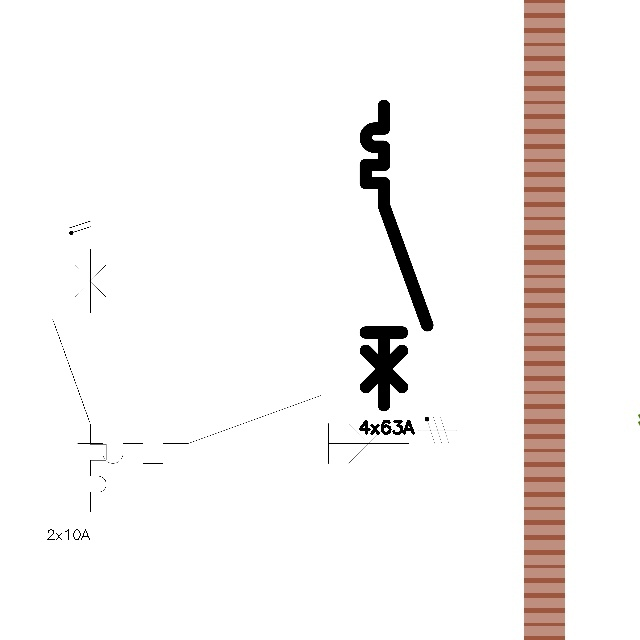interruptor_termomagnetico: (69, 387, 417, 472), (358, 98, 435, 413), (46, 242, 113, 518)
